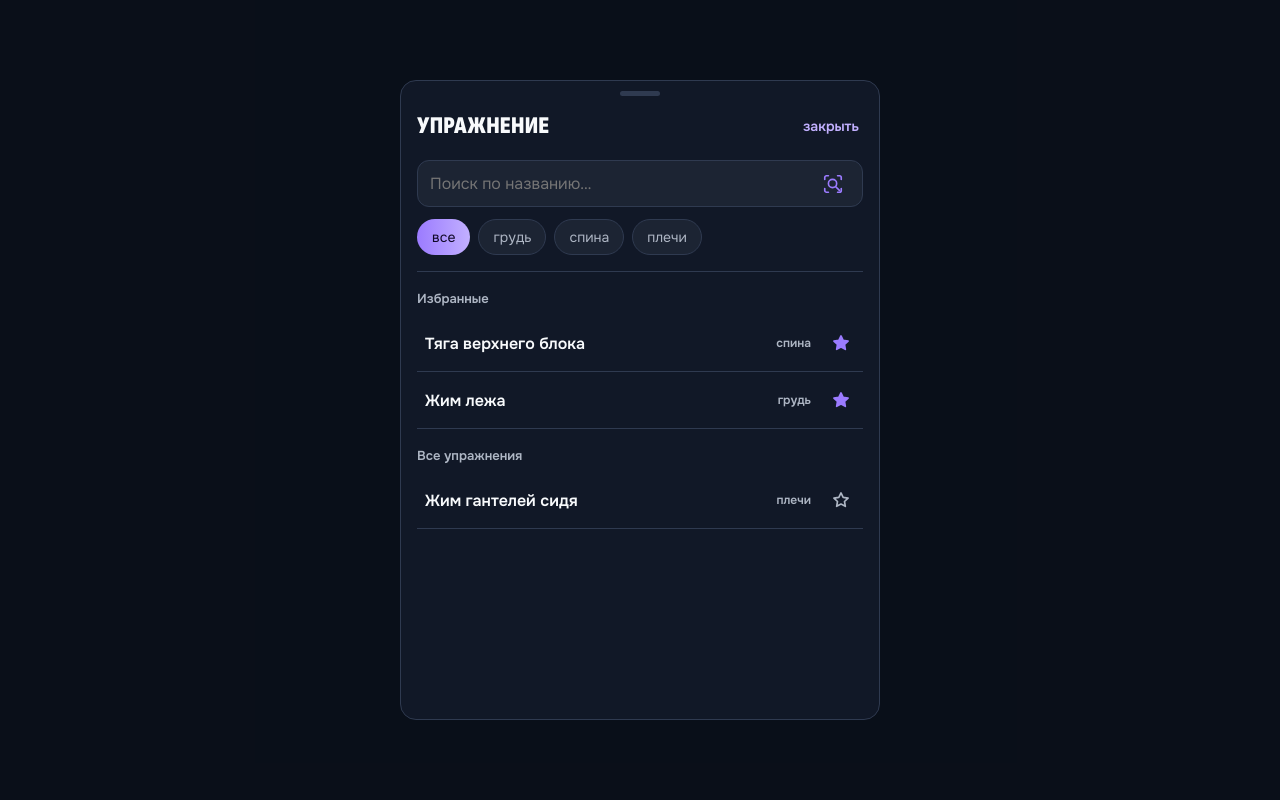
Scenario: ExercisePicker — ⭐ избранные (v6.5.0) › снятая в «Избранных» звезда оставляет строку на месте до смены запроса
Step 1. Click the 1st button named "Убрать из избранного" → (841, 343), box 819,315 -> 863,371
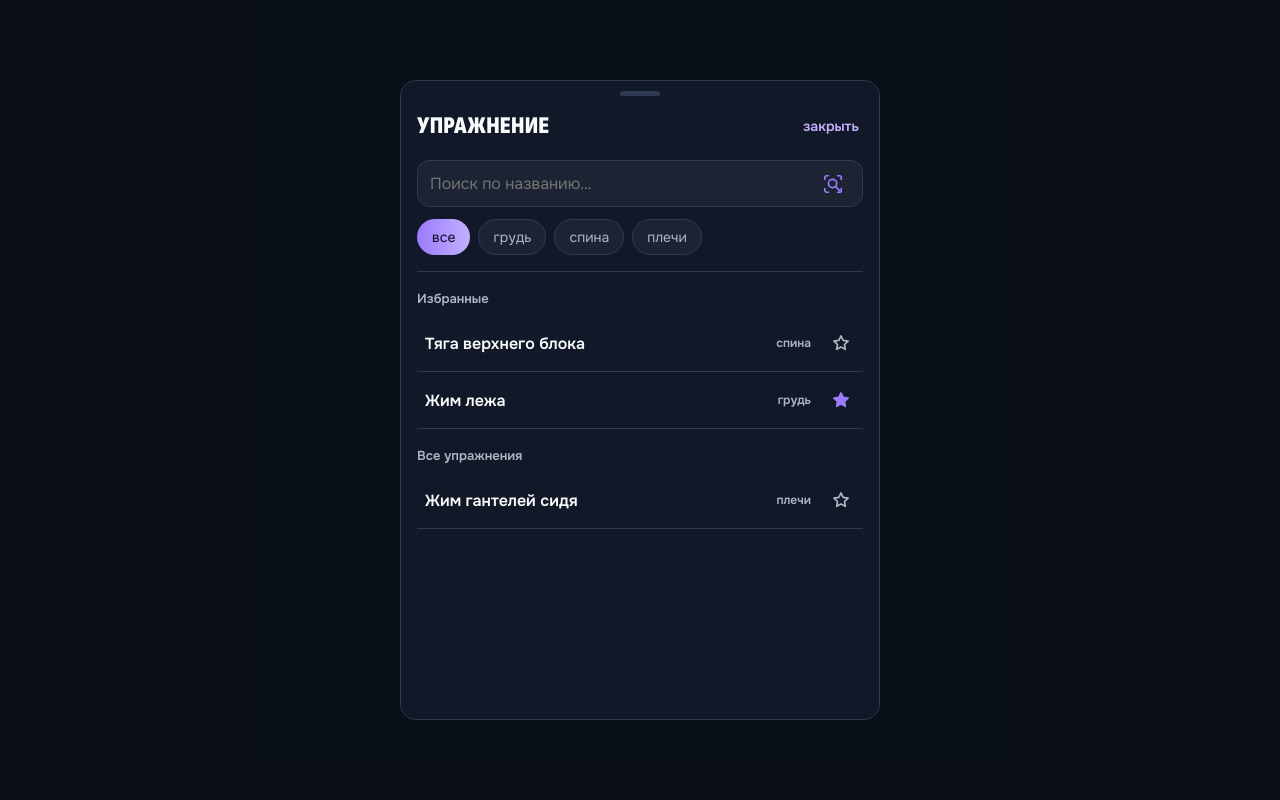
Expected: the text "Тяга верхнего блока" is shown once, 425,332 -> 585,354
Expected: the 1st button named "Убрать из избранного" is not pressed
Step 2. Click the 1st button named "Убрать из избранного" → (841, 343), box 819,315 -> 863,371
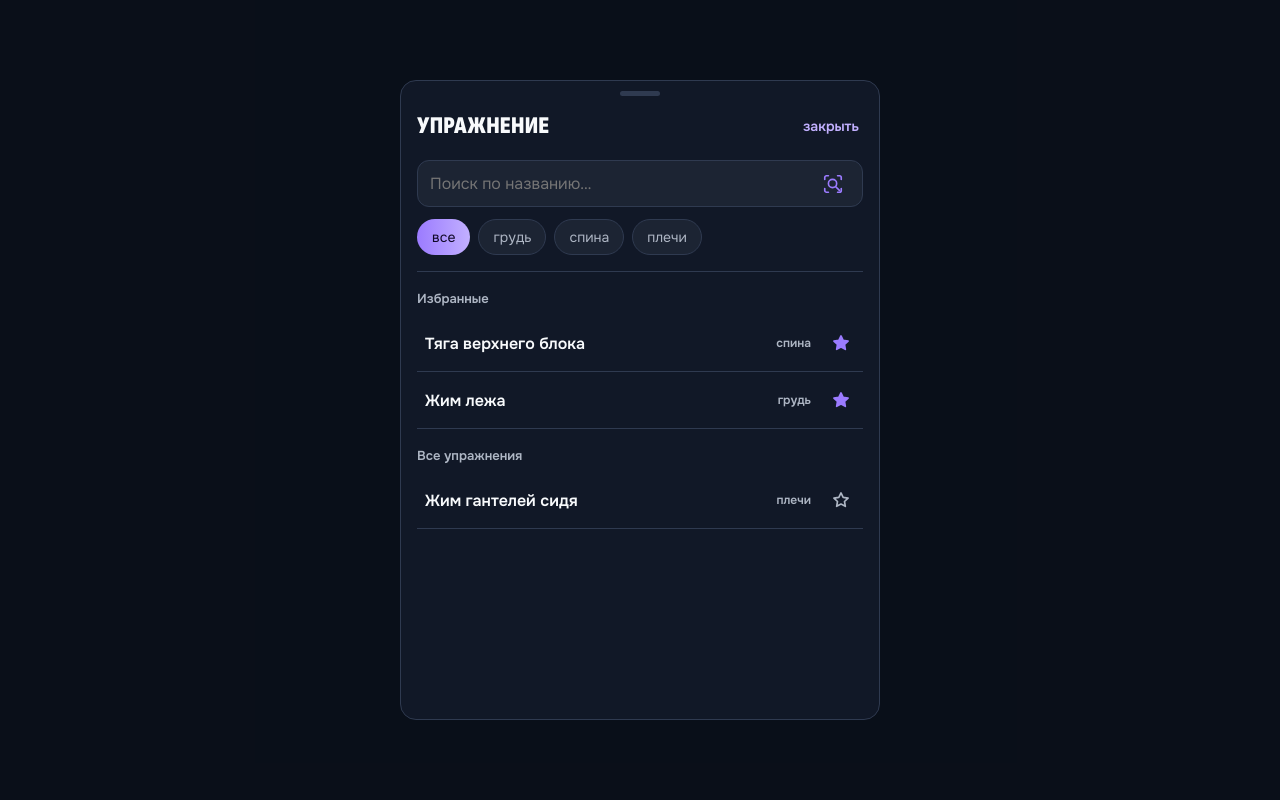
Expected: the 1st button named "Убрать из избранного" is pressed
Step 3. Click the 1st button named "Убрать из избранного" → (841, 343), box 819,315 -> 863,371
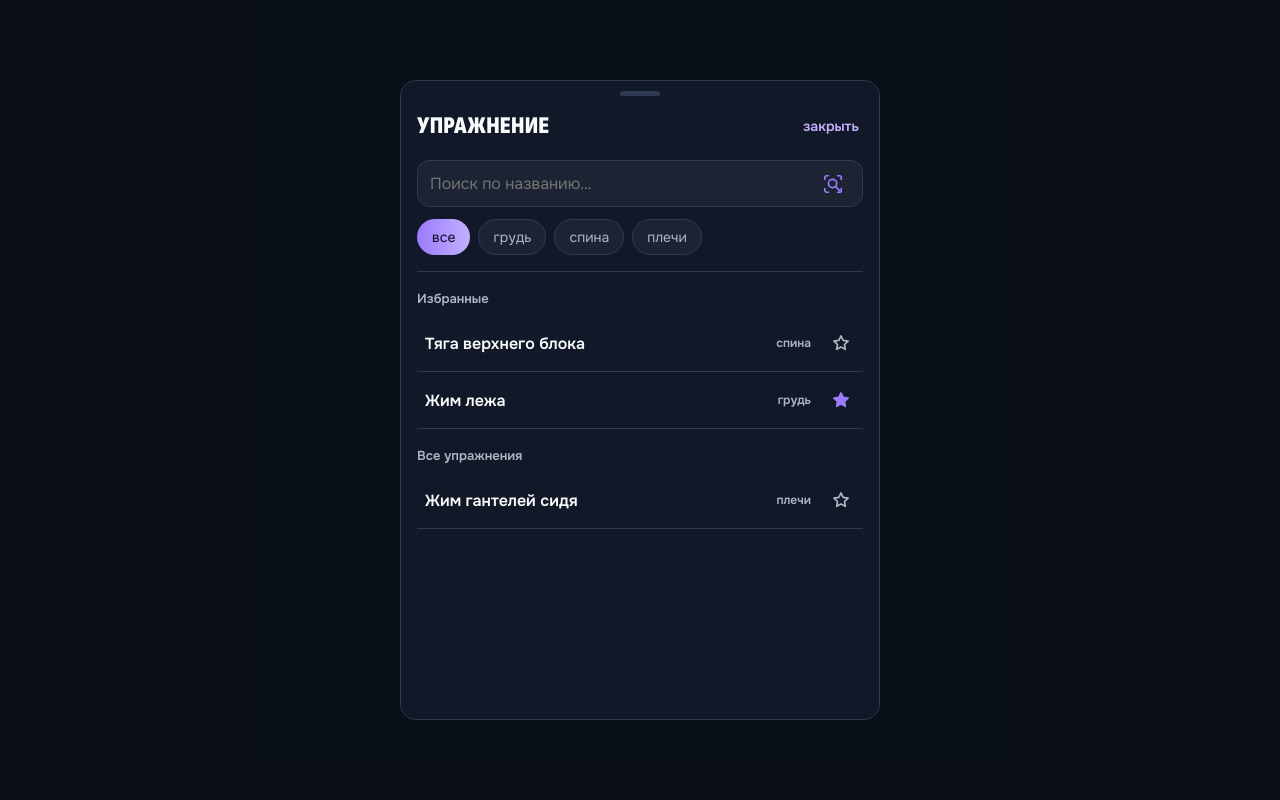
Step 4. Type "x" into the field with placeholder "Поиск по названию…" → (640, 184), box 417,160 -> 863,207
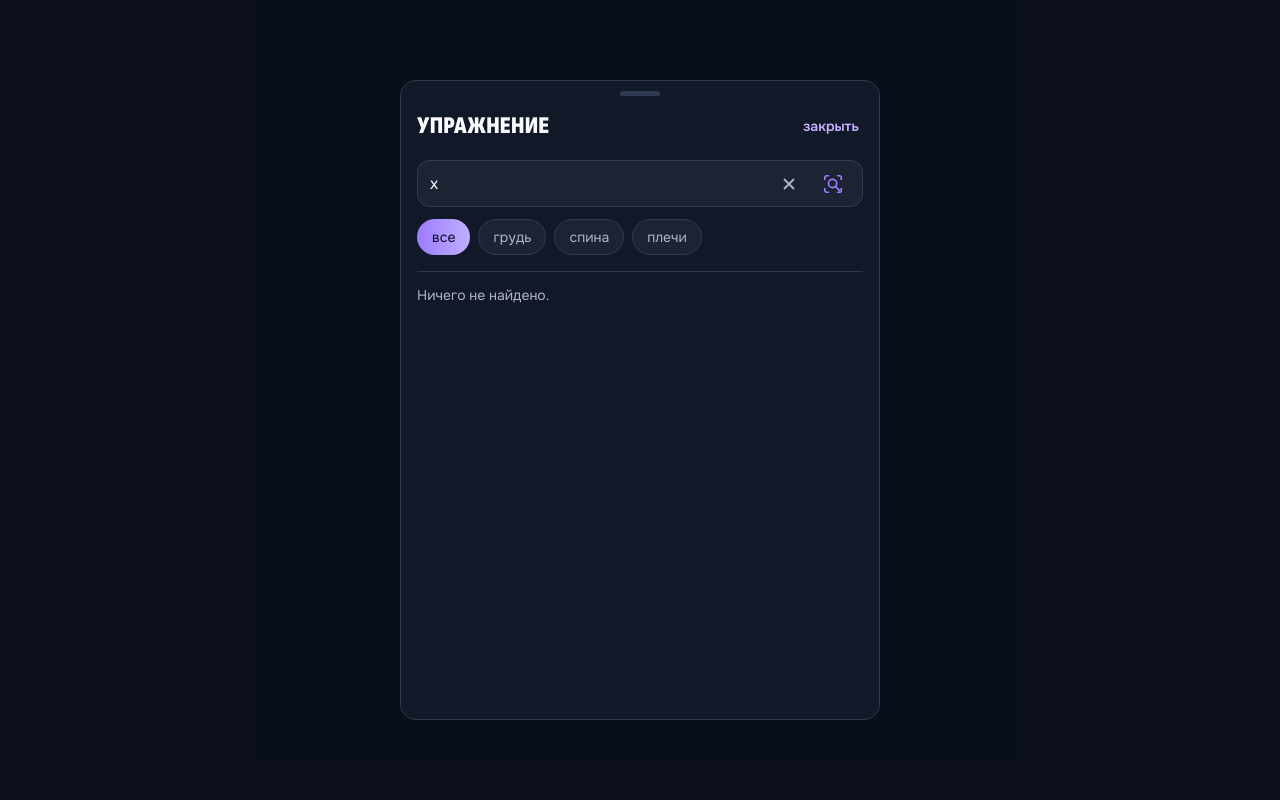
Step 5. Clear the field with placeholder "Поиск по названию…" → (640, 184), box 417,160 -> 863,207
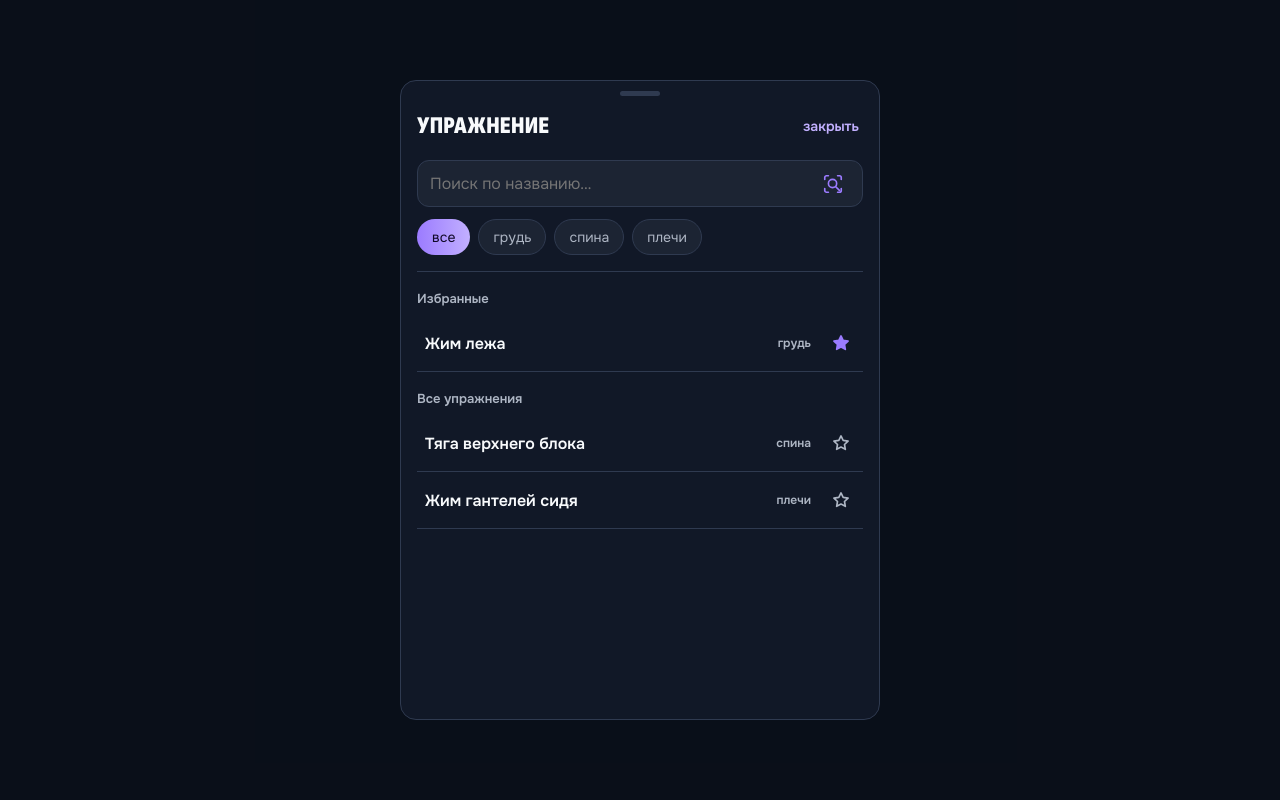
Expected: the text "Избранные" is shown, 417,290 -> 489,307
